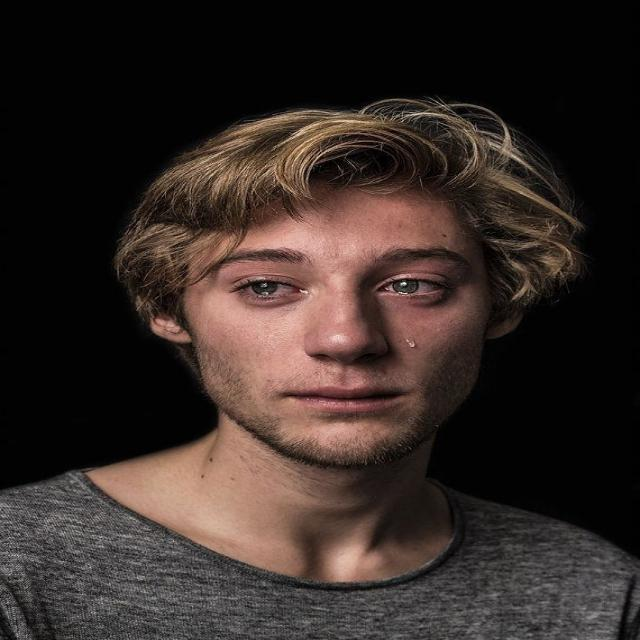sem_oculos: (149, 232, 530, 314)
